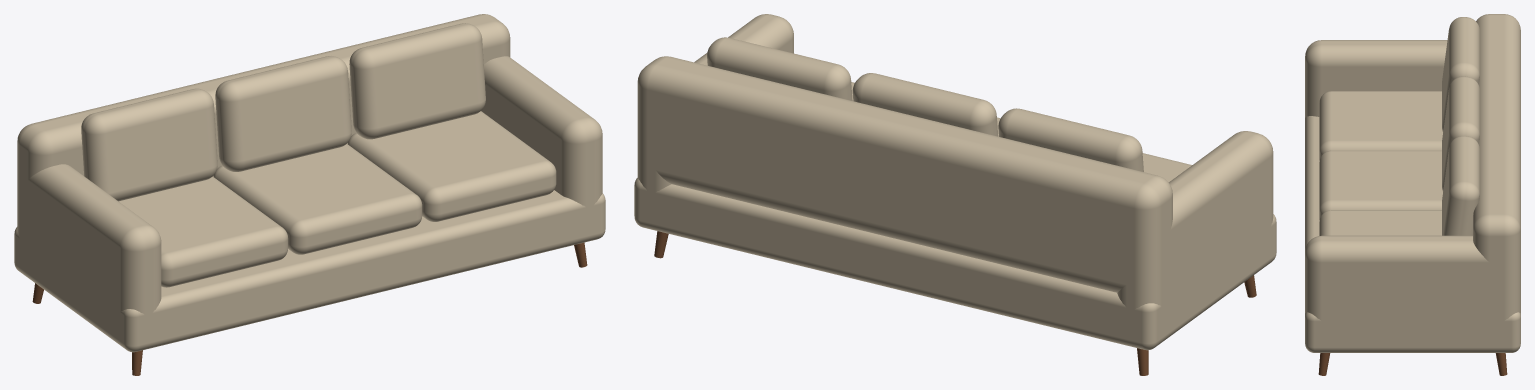
The model's file is sofa.glb.
The picture shows the model from 3 angles, left to right: view 1: azimuth 30°, elevation 25°; view 2: azimuth 150°, elevation 25°; view 3: azimuth 270°, elevation 25°; orthographic projection. The views are drawn at different scales.
Size of the model in its own units: 2.1 by 0.8112 by 0.9.
